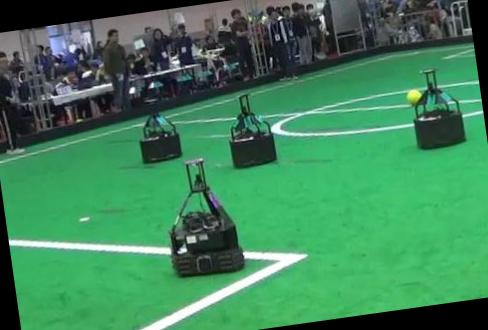ball: (406, 89, 422, 104)
person: (0, 52, 24, 153)
robot: (169, 158, 243, 275), (414, 70, 466, 149), (229, 94, 275, 167), (140, 97, 182, 162)
